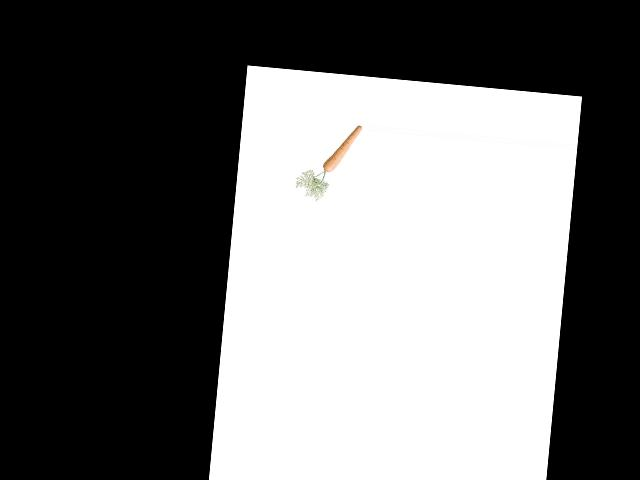carrot: (320, 120, 364, 180)
